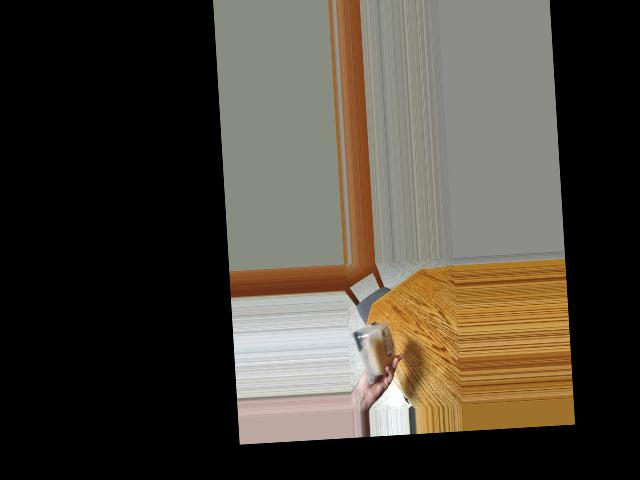cheese: (353, 318, 399, 378)
